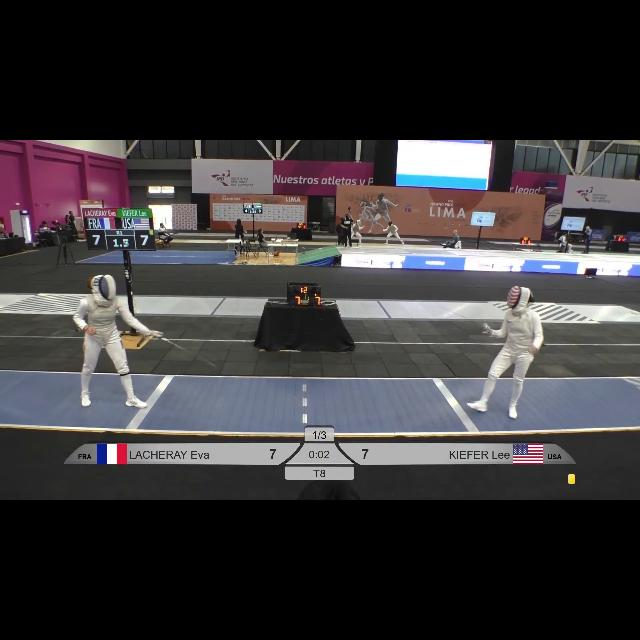blade: (154, 332, 223, 372), (432, 302, 492, 332)
